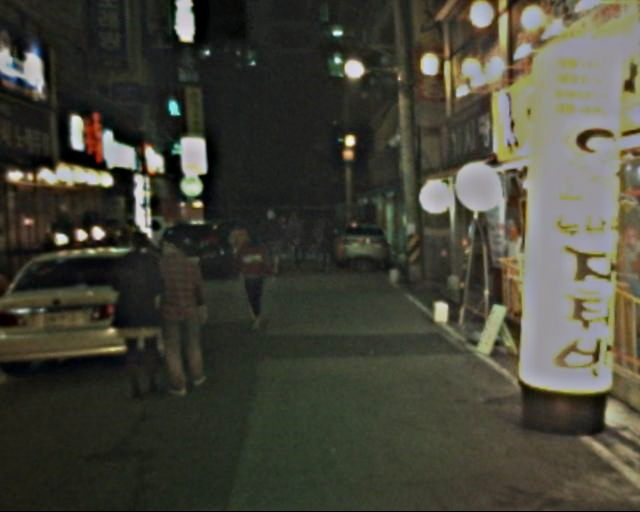person: (109, 227, 173, 406), (153, 226, 217, 403), (233, 223, 275, 328), (259, 199, 289, 279), (230, 216, 261, 286), (281, 213, 304, 279), (314, 215, 337, 275)
